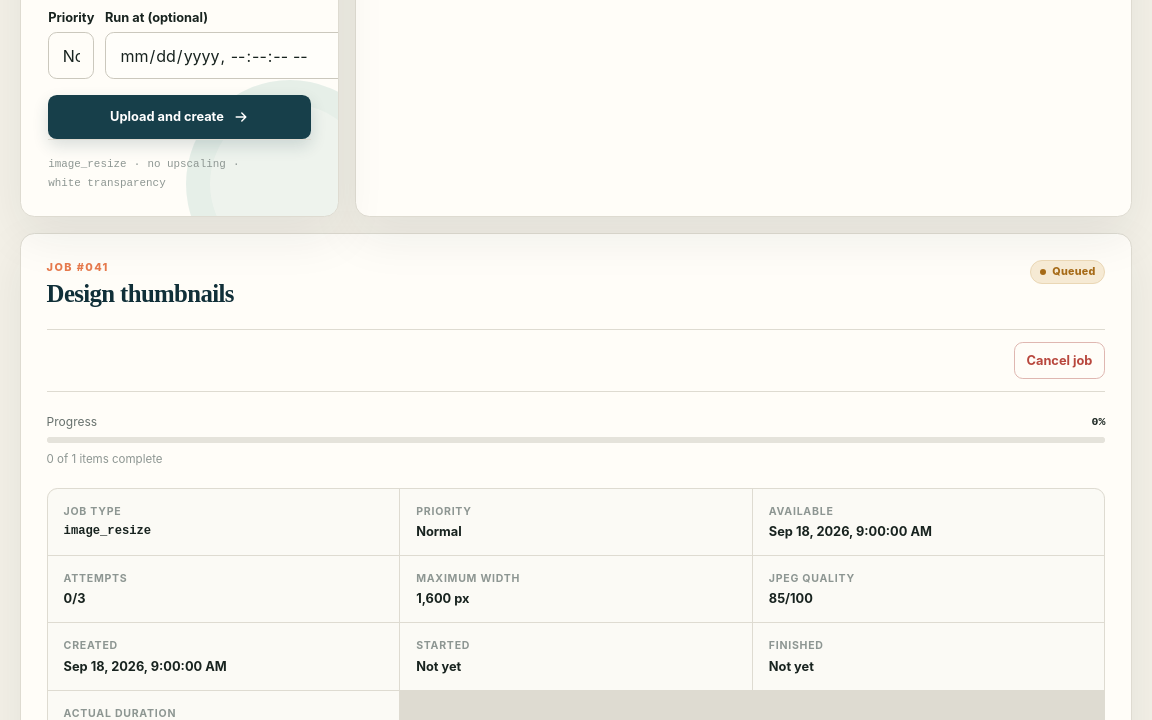
Scenario: Jobs dashboard › requests cancellation and updates the selected job
The width and height of the screenshot is (1152, 720).
(page scrolled)
Expected: the heading "Design thumbnails" is shown, [47,280,234,308]
Click the button "Cancel job" at [1059, 361], box [1014,342,1105,379]
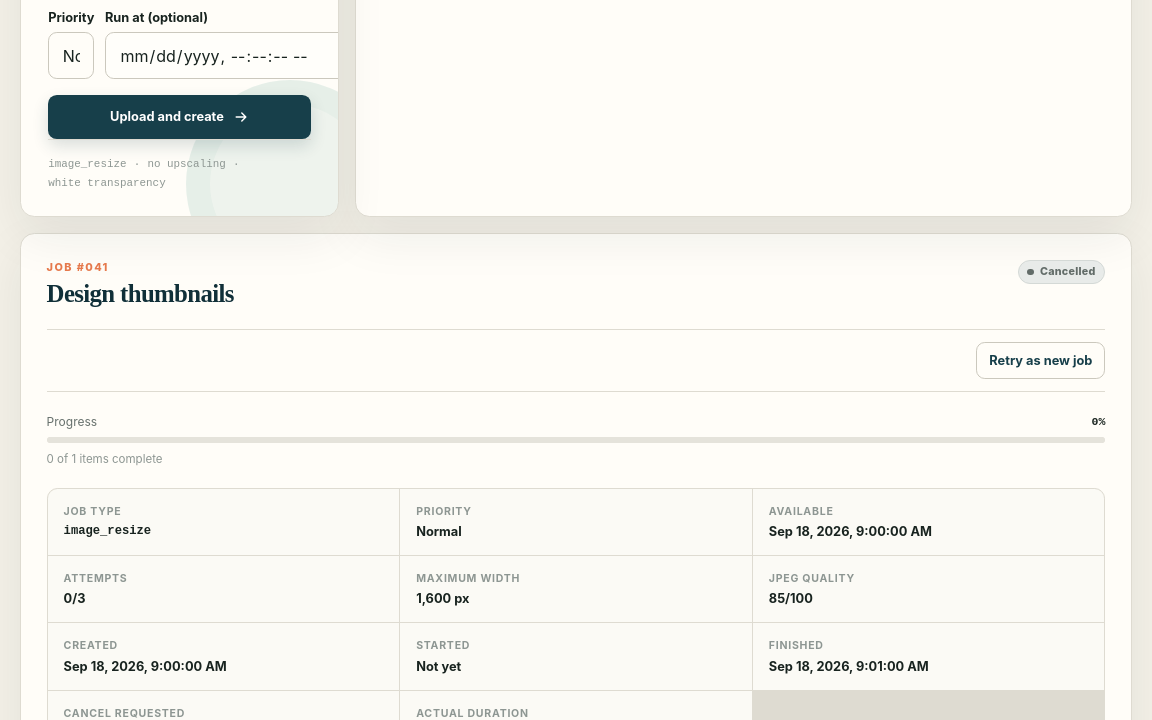
Result: the button "Retry as new job" is shown at [976,342,1105,379]
